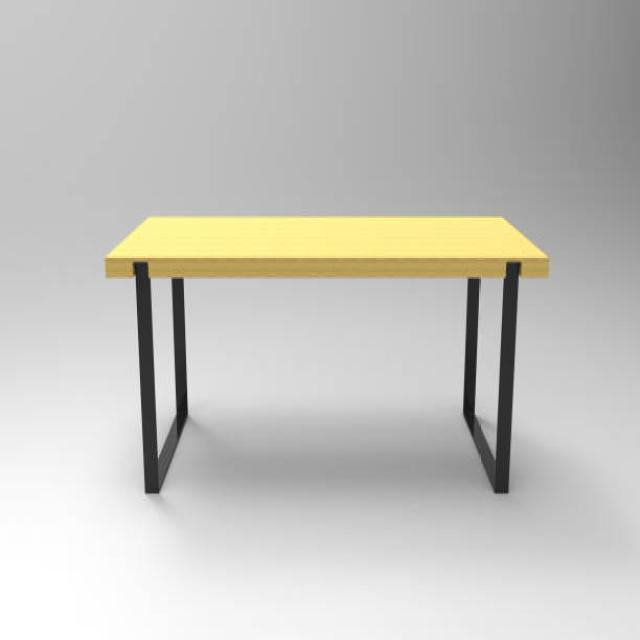table: (103, 212, 550, 496)
